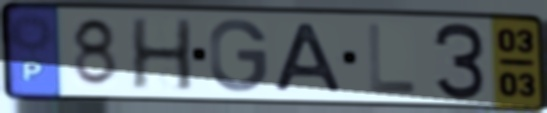3: (428, 18, 488, 103)
8: (70, 16, 121, 90)
A: (271, 21, 347, 94)
G: (207, 17, 271, 95)
H: (128, 16, 197, 93)
L: (365, 21, 420, 96)
